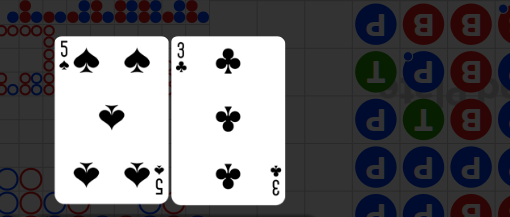3C: (268, 163, 282, 197)
5S: (58, 40, 71, 72)
